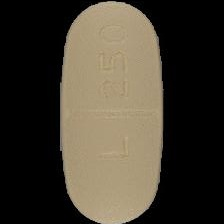42043-190: (0, 0, 224, 224)
